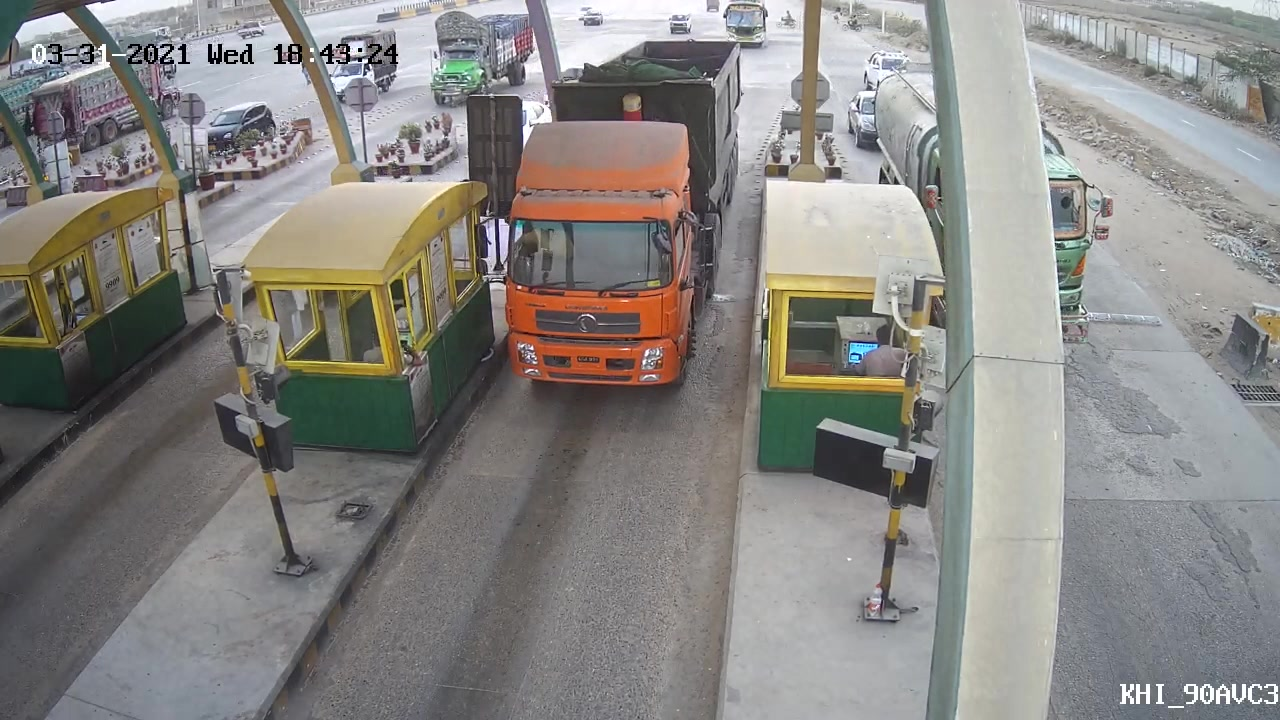F5: (484, 37, 753, 399)
